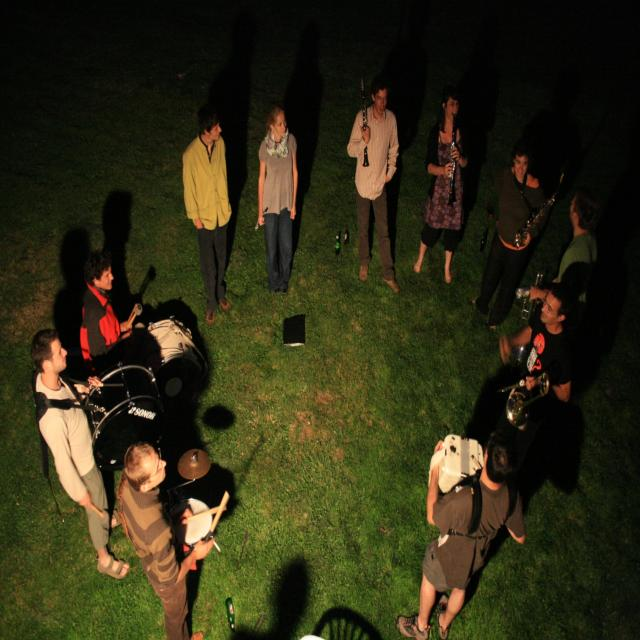clarinet: (446, 110, 460, 208), (358, 77, 371, 168)
